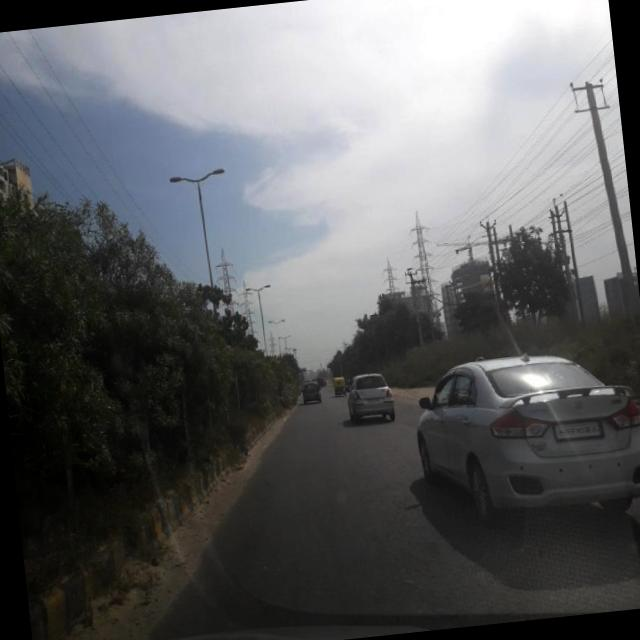crack: (182, 434, 472, 627)
